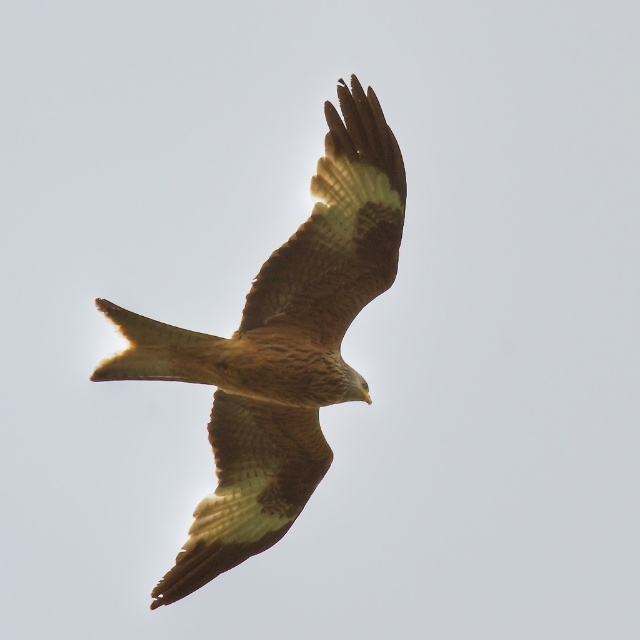Eagle: (90, 67, 415, 611)
